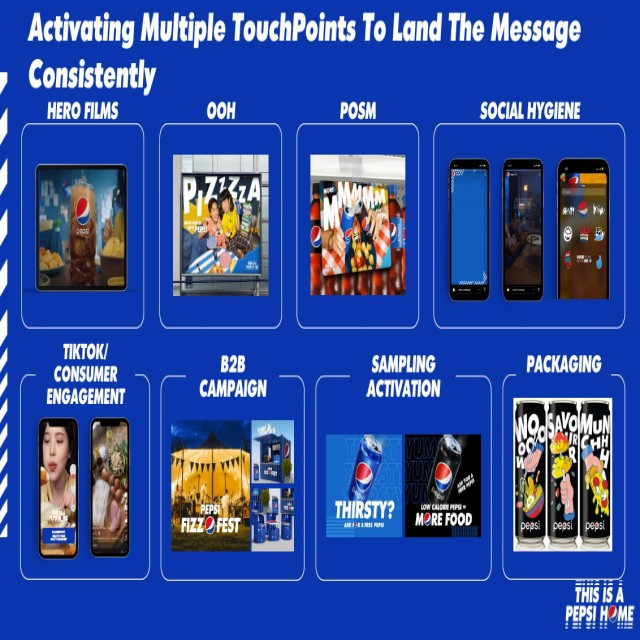pepsi: (354, 461, 374, 498), (434, 462, 452, 494), (75, 195, 91, 226), (607, 601, 620, 623)
